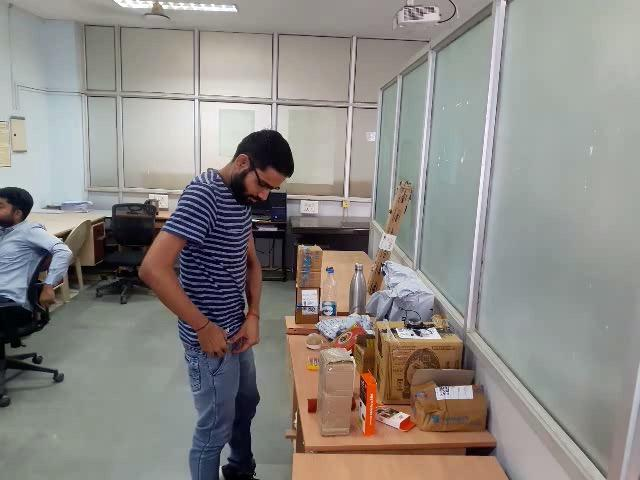shoplifting: (122, 281, 302, 418)
